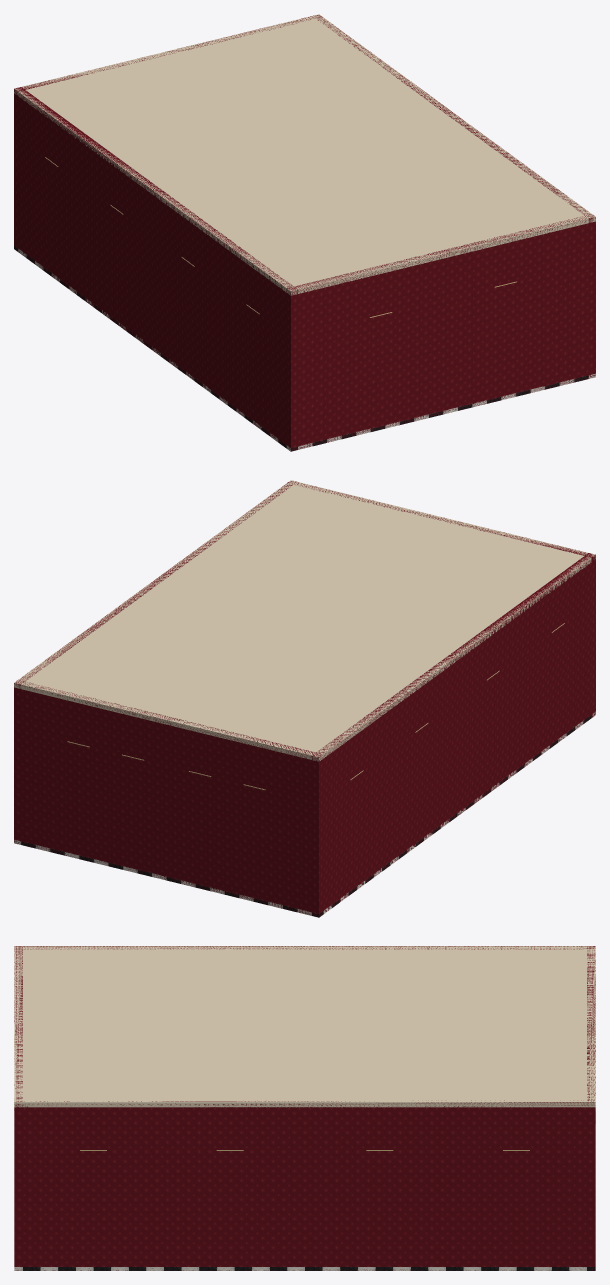
The model's file is hall.glb.
3 views of the same model, one above another, from view 1: azimuth 30°, elevation 25°; view 2: azimuth 150°, elevation 25°; view 3: azimuth 270°, elevation 25° (orthographic). The views are drawn at different scales.
Visible parts, largest first — view 1: Shell_ceiling_slab, Shell_wall_N, Shell_wall_W, Shell_wall_E, Shell_floor_slab, Shell_wall_S; view 2: Shell_ceiling_slab, Shell_wall_S, Shell_wall_W, Shell_wall_E, Shell_floor_slab, Shell_wall_N; view 3: Shell_ceiling_slab, Shell_wall_E, Shell_floor_slab, Shell_wall_N, Shell_wall_S, Shell_wall_W.
Boxes of the visible parts, x1=… form: Shell_ceiling_slab: x1=14, y1=14, x2=595, y2=295; Shell_wall_N: x1=287, y1=215, x2=595, y2=450; Shell_wall_W: x1=14, y1=87, x2=297, y2=451; Shell_wall_E: x1=315, y1=15, x2=595, y2=377; Shell_floor_slab: x1=14, y1=246, x2=595, y2=451; Shell_wall_S: x1=14, y1=15, x2=316, y2=248; Shell_ceiling_slab: x1=14, y1=480, x2=595, y2=761; Shell_wall_S: x1=14, y1=681, x2=321, y2=916; Shell_wall_W: x1=312, y1=553, x2=595, y2=916; Shell_wall_E: x1=14, y1=481, x2=296, y2=843; Shell_floor_slab: x1=14, y1=711, x2=595, y2=917; Shell_wall_N: x1=288, y1=481, x2=595, y2=717; Shell_ceiling_slab: x1=14, y1=946, x2=595, y2=1107; Shell_wall_E: x1=14, y1=1100, x2=595, y2=1270; Shell_floor_slab: x1=14, y1=1267, x2=595, y2=1270; Shell_wall_N: x1=14, y1=946, x2=22, y2=1270; Shell_wall_S: x1=587, y1=946, x2=595, y2=1258; Shell_wall_W: x1=14, y1=946, x2=595, y2=949.
Size of the model in its own units: 42.04 by 21.31 by 66.04.
22 materials, 14 textured.
